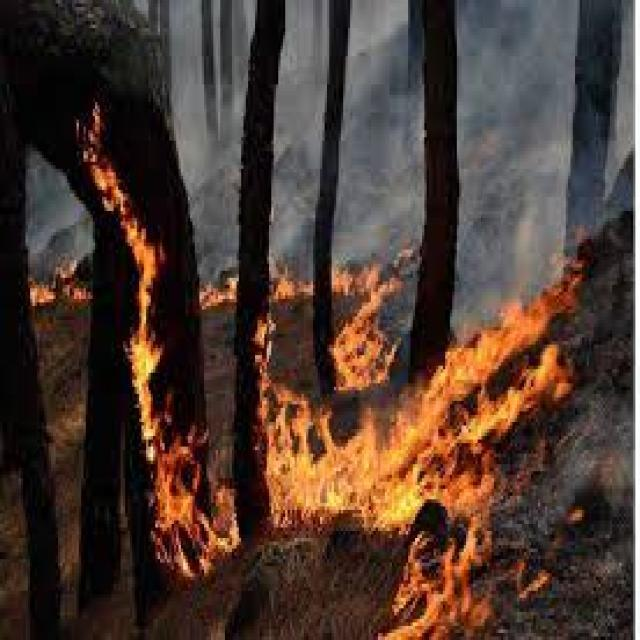Fire: (29, 101, 588, 640)
Smoke: (141, 0, 640, 287), (25, 146, 97, 266)
